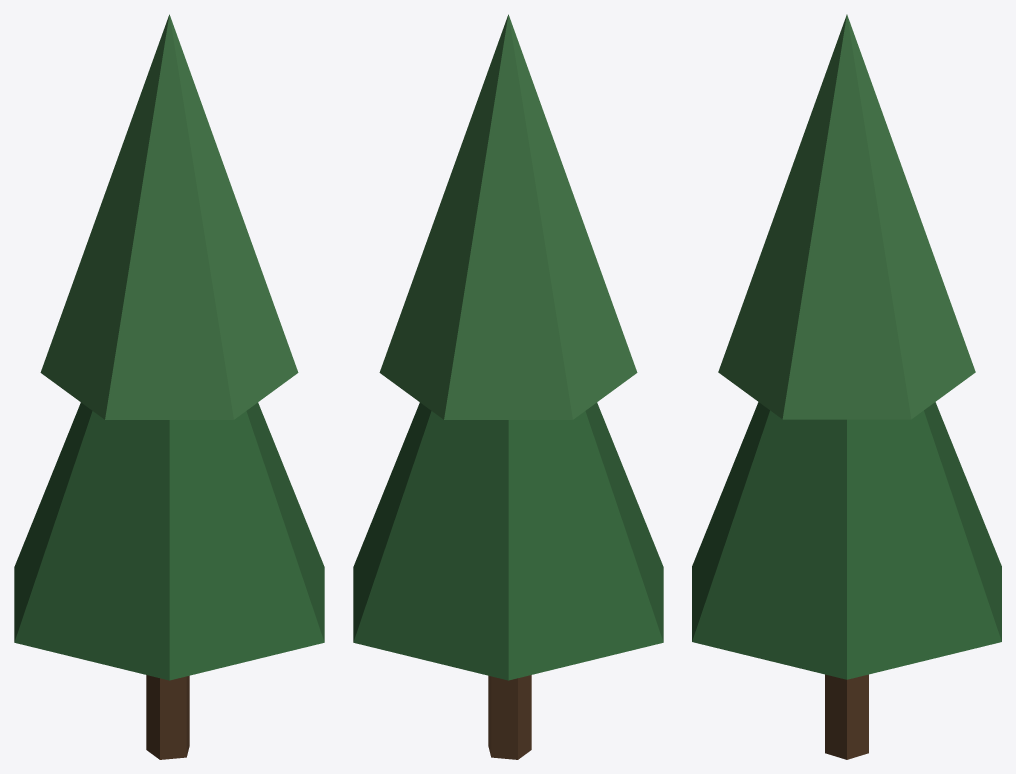
3 renders of one model, left to right at view 1: azimuth 30°, elevation 25°; view 2: azimuth 150°, elevation 25°; view 3: azimuth 270°, elevation 25°, orthographic.
Parts seen in each view (by area): view 1: pine; view 2: pine; view 3: pine.
Boxes of the visible parts, box(x1,y1,x2,y2) form: pine: box(14, 14, 324, 759); pine: box(353, 14, 663, 759); pine: box(692, 14, 1001, 759).
Size of the model in its own units: 2 by 4.54 by 1.73.
1 material, 1 textured.
